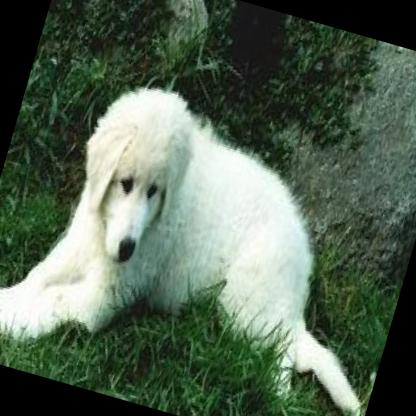kuvasz: (0, 45, 416, 416)
